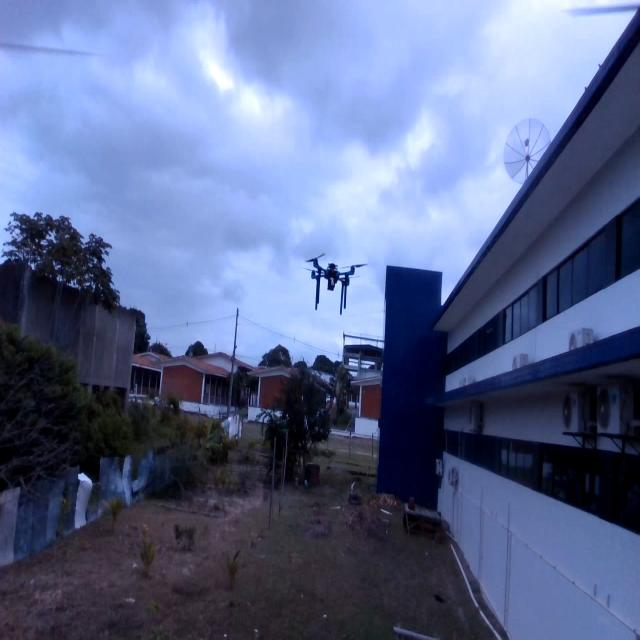-uav-: (300, 244, 374, 320)
